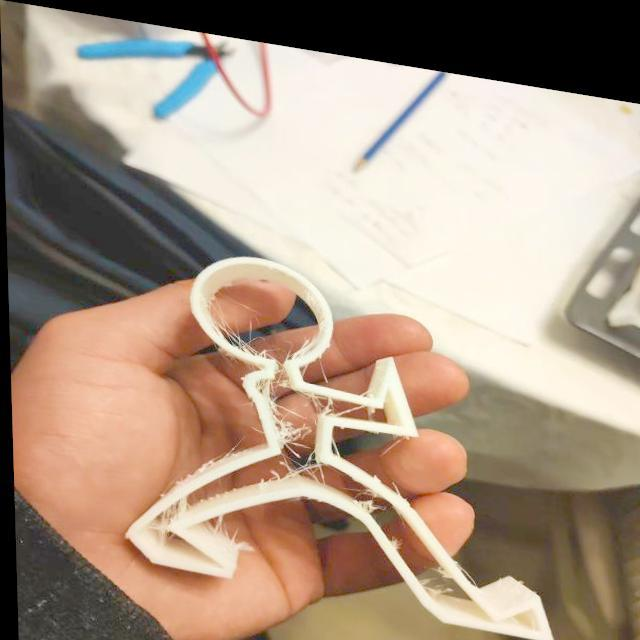stringing: (216, 301, 262, 351), (270, 407, 310, 444), (290, 449, 326, 472), (306, 384, 338, 406), (333, 390, 367, 406), (255, 372, 276, 396), (355, 486, 376, 503)
